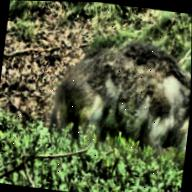boar: (35, 9, 192, 173)
